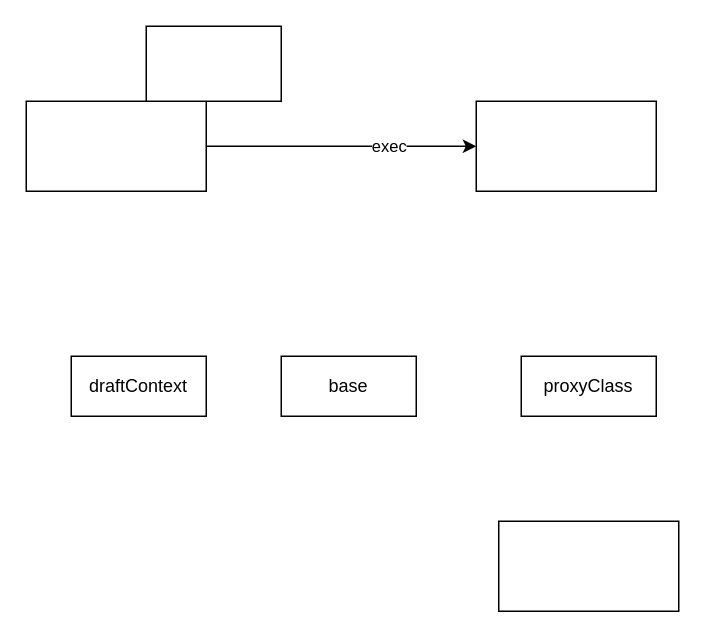
This 705x638 diagram has some shape labels left out. The shapes that lost their labels are listed below. From the top down, each one's centre as x and y in pixels, then its label:
[213,63]: 需要生成的接口类型
[115,145]: AggregateProxy
